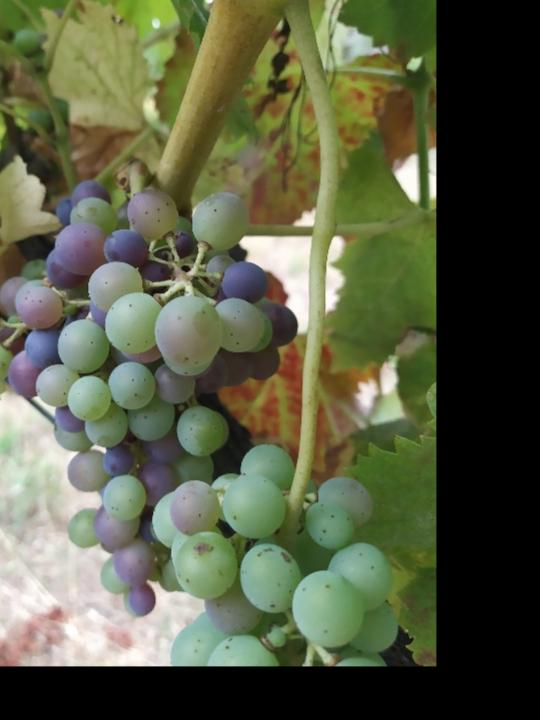grape: (0, 176, 301, 622)
